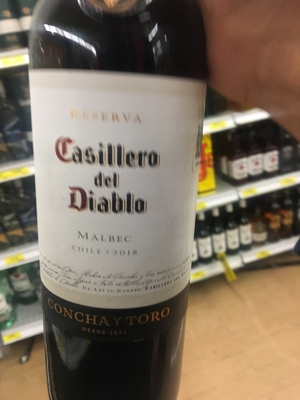casillero del diablo malbec: (25, 10, 208, 400)
